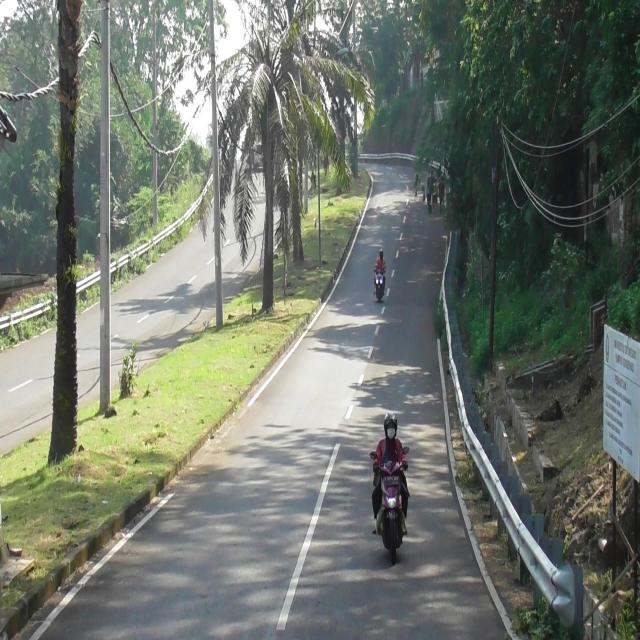motorcycle: (379, 458, 405, 556), (374, 265, 385, 300)
person: (373, 414, 407, 532), (375, 246, 388, 273)
rider_region: (373, 412, 409, 564), (374, 243, 386, 296)
